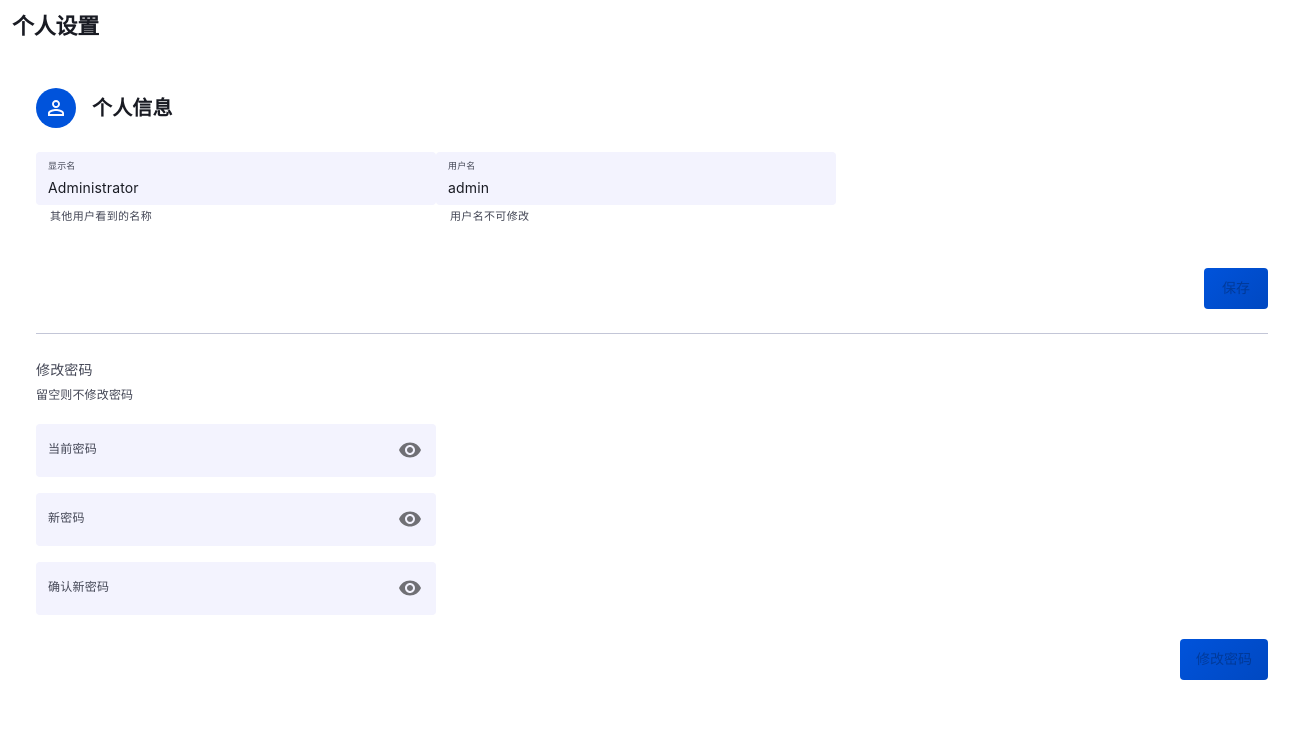
Scenario: Settings › validates password fields
Type "old" into the password field labelled "当前密码" at (210, 450), box [36,424,385,477]
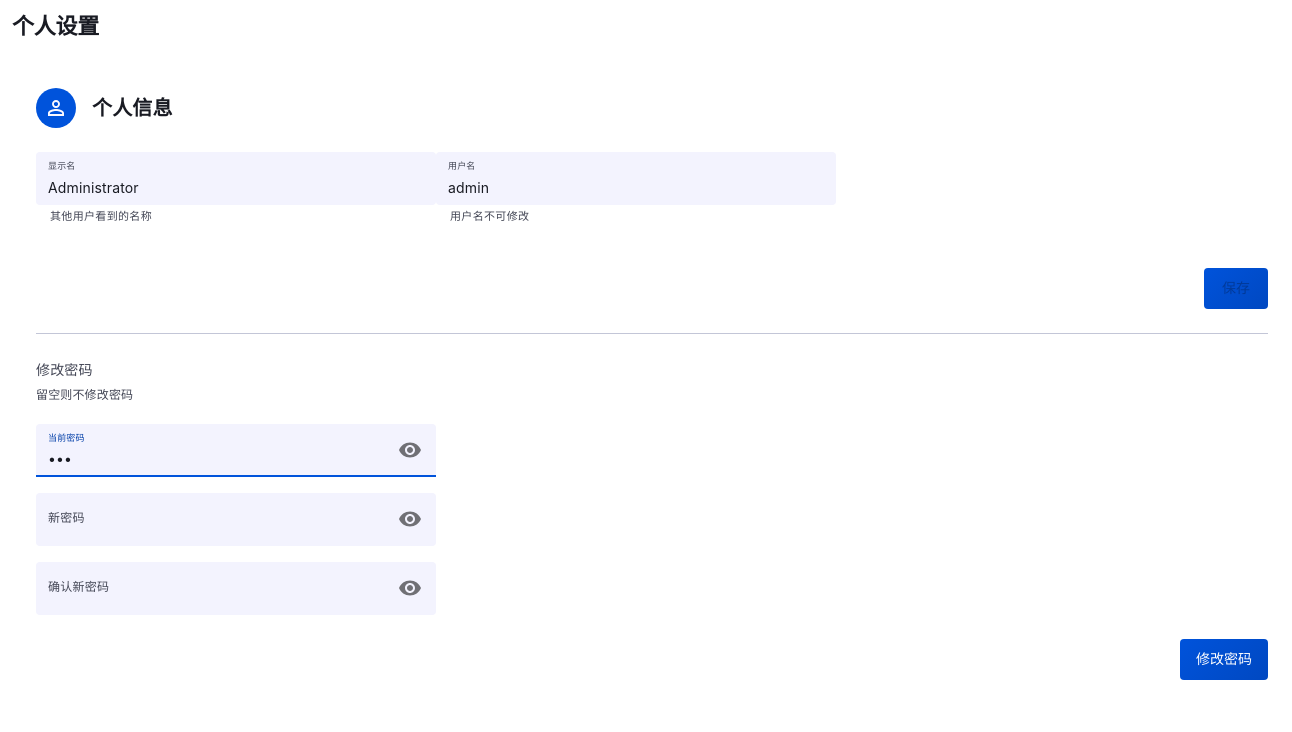
Click the button "修改密码" at (1224, 659), box [1180,639,1268,680]
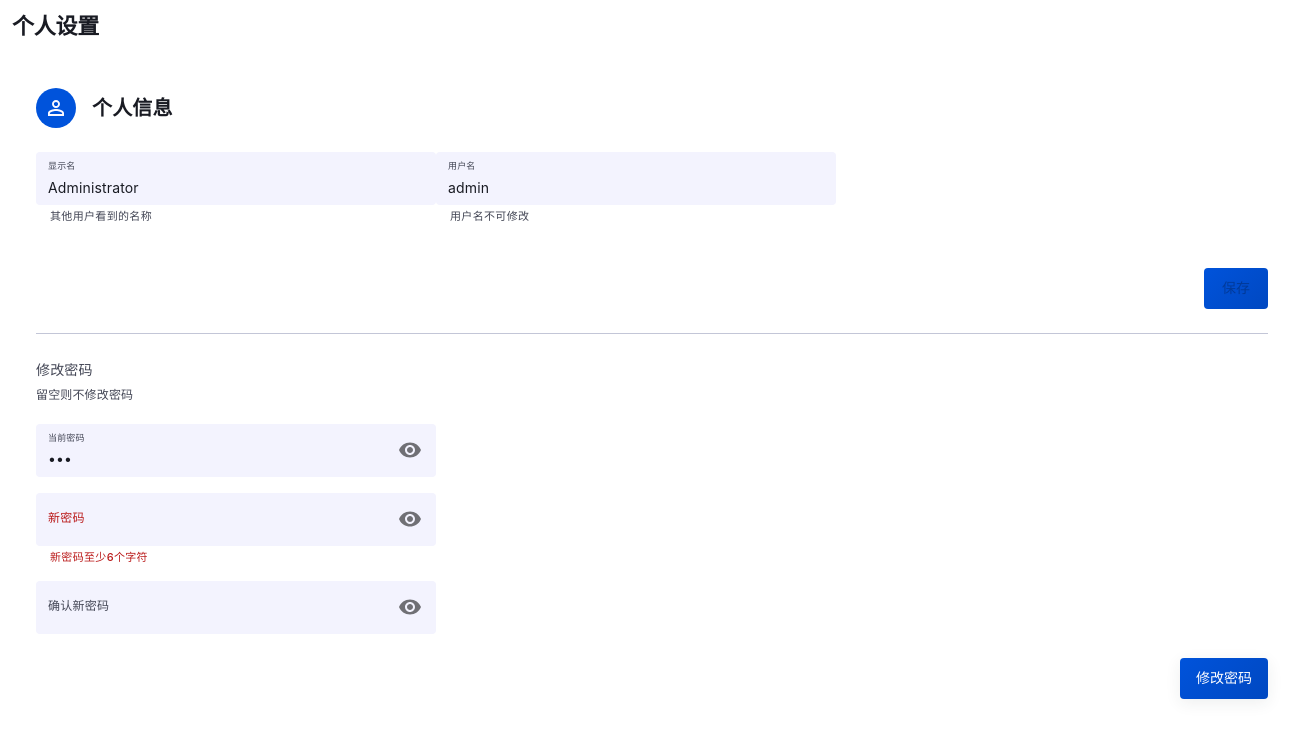
Expected: the text "新密码至少6个字符" is shown, [50,550,148,564]
